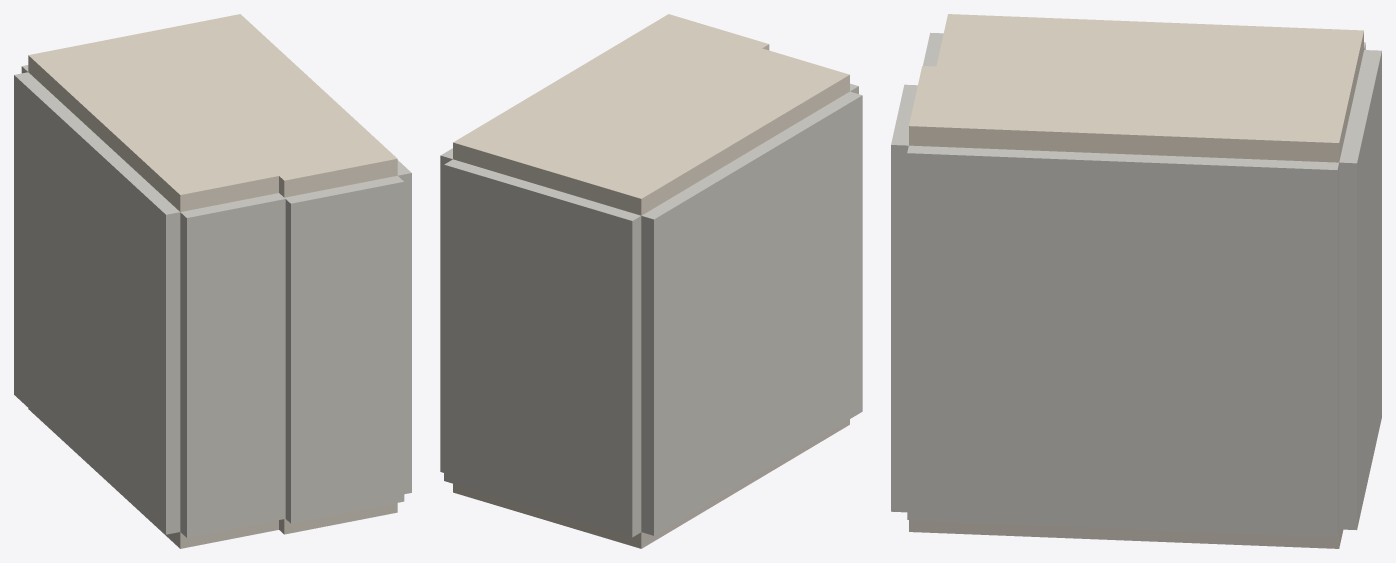
3 renders of one model, left to right at view 1: azimuth 30°, elevation 25°; view 2: azimuth 150°, elevation 25°; view 3: azimuth 270°, elevation 25°, orthographic. The views are drawn at different scales.
Visible parts, largest first — view 1: Wall_06, Ceiling, Wall_03, Wall_01, Floor, Wall_04; view 2: Wall_06, Wall_05, Ceiling, Floor, Wall_04; view 3: Wall_04, Ceiling, Wall_05, Wall_03, Floor.
Boxes of the visible parts, x1=… form: Wall_06: x1=14, y1=72, x2=180, y2=534; Ceiling: x1=28, y1=14, x2=397, y2=211; Wall_03: x1=284, y1=176, x2=404, y2=523; Wall_01: x1=180, y1=193, x2=285, y2=537; Floor: x1=28, y1=408, x2=397, y2=548; Wall_04: x1=397, y1=160, x2=411, y2=494; Wall_06: x1=641, y1=91, x2=862, y2=535; Wall_05: x1=444, y1=159, x2=641, y2=537; Ceiling: x1=453, y1=14, x2=849, y2=215; Floor: x1=453, y1=419, x2=849, y2=548; Wall_04: x1=440, y1=148, x2=452, y2=472; Wall_04: x1=907, y1=145, x2=1339, y2=536; Ceiling: x1=909, y1=14, x2=1363, y2=162; Wall_05: x1=1339, y1=50, x2=1381, y2=530; Wall_03: x1=891, y1=84, x2=917, y2=512; Floor: x1=909, y1=520, x2=1343, y2=548.
Bounding box in the file's own units: 4.75 × 6.24 × 6.84.
